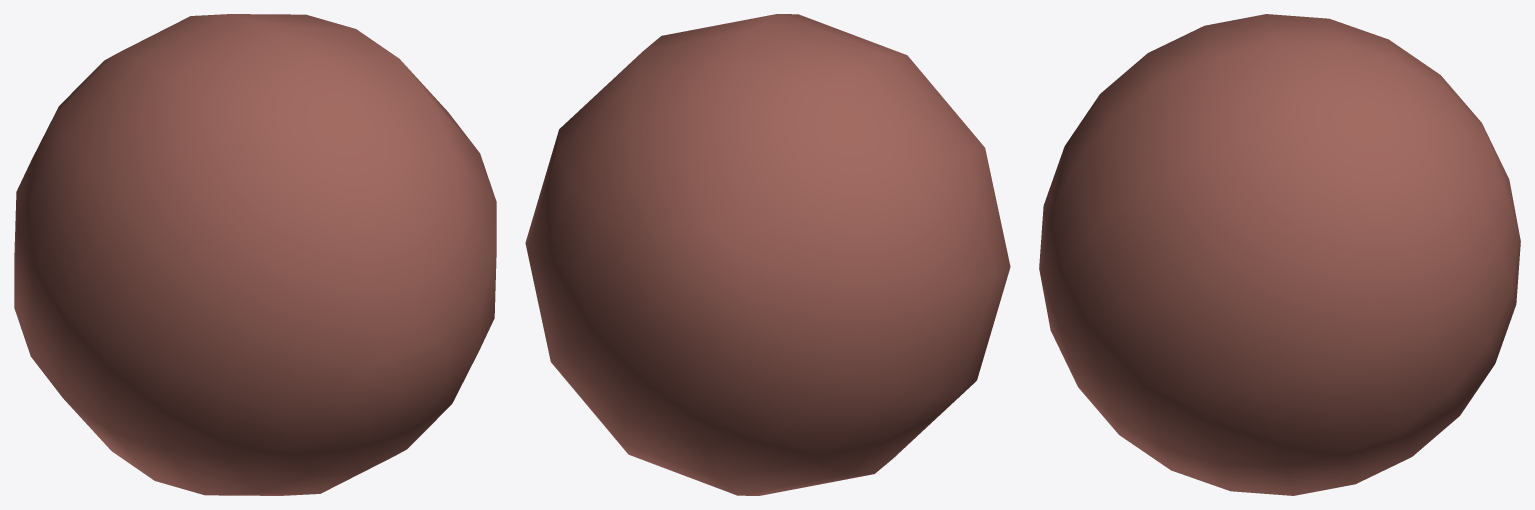
Rendered from mixamo_humanoid_joint_leftHandMiddle1.fbx.
3 renders of one model, left to right at view 1: azimuth 30°, elevation 25°; view 2: azimuth 150°, elevation 25°; view 3: azimuth 270°, elevation 25°, orthographic. The views are drawn at different scales.
Parts seen in each view (by area): view 1: joint_LeftHandMiddle1; view 2: joint_LeftHandMiddle1; view 3: joint_LeftHandMiddle1.
Part boxes in pixels (x1=…): joint_LeftHandMiddle1: x1=14, y1=14, x2=496, y2=495; joint_LeftHandMiddle1: x1=525, y1=14, x2=1010, y2=495; joint_LeftHandMiddle1: x1=1039, y1=14, x2=1520, y2=495.
Bounding box in the file's own units: 2.59 × 2.62 × 2.62.
